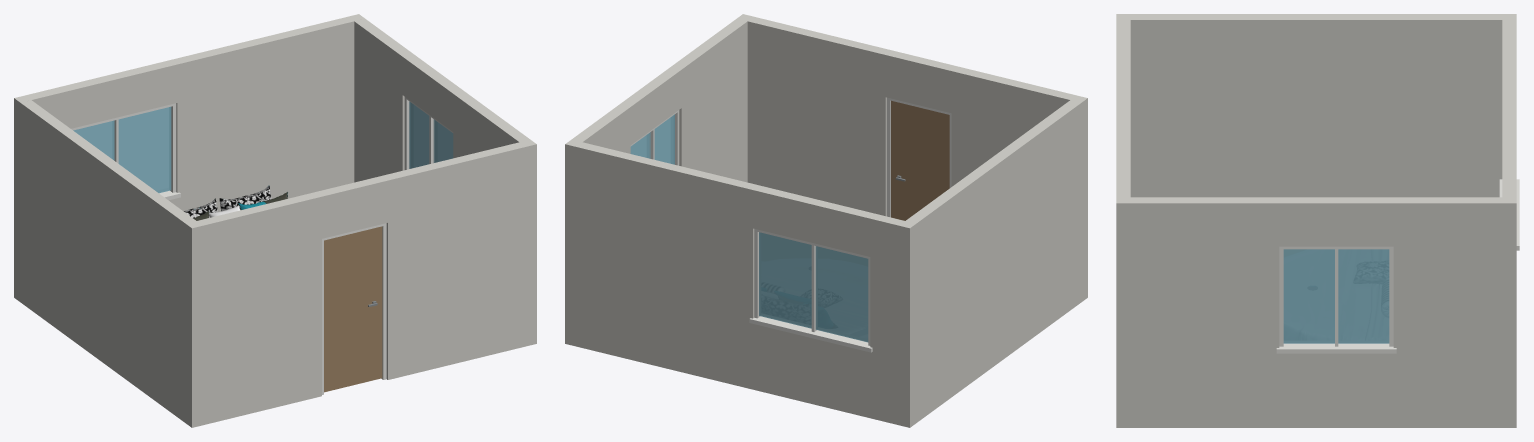
File: atiss.glb
3 views of the same model, side by side, from view 1: azimuth 30°, elevation 25°; view 2: azimuth 150°, elevation 25°; view 3: azimuth 270°, elevation 25° (orthographic). The views are drawn at different scales.
Parts seen in each view (by area): view 1: wall|scenesmith_020__R00|0, wall|scenesmith_020__R00|2, wall|scenesmith_020__R00|1, wall|scenesmith_020__R00|3, wall|scenesmith_020__R00|0 Door 0 | wood leaf, wall|scenesmith_020__R00|1 Window 0 | glazing, wall|scenesmith_020__R00|3 Window 0 | glazing, raw_model.002, wall|scenesmith_020__R00|0 Door 0 | jamb, wall|scenesmith_020__R00|1 Window 0 | jamb, wall|scenesmith_020__R00|3 Window 0 | jamb; view 2: wall|scenesmith_020__R00|1, wall|scenesmith_020__R00|2, wall|scenesmith_020__R00|0, wall|scenesmith_020__R00|3, wall|scenesmith_020__R00|1 Window 0 | glazing, wall|scenesmith_020__R00|0 Door 0 | wood leaf, wall|scenesmith_020__R00|1 Window 0 | jamb, wall|scenesmith_020__R00|3 Window 0 | glazing, wall|scenesmith_020__R00|0 Door 0 | jamb, wall|scenesmith_020__R00|3 Window 0 | jamb; view 3: wall|scenesmith_020__R00|3, wall|scenesmith_020__R00|2, wall|scenesmith_020__R00|3 Window 0 | glazing, wall|scenesmith_020__R00|1, wall|scenesmith_020__R00|0, wall|scenesmith_020__R00|3 Window 0 | jamb.
Part boxes in pixels (<box>): wall|scenesmith_020__R00|0: <box>192,142,525,427</box>; wall|scenesmith_020__R00|2: <box>20,100,202,427</box>; wall|scenesmith_020__R00|1: <box>14,14,364,301</box>; wall|scenesmith_020__R00|3: <box>354,18,536,346</box>; wall|scenesmith_020__R00|0 Door 0 | wood leaf: <box>324,226,382,392</box>; wall|scenesmith_020__R00|1 Window 0 | glazing: <box>73,106,171,193</box>; wall|scenesmith_020__R00|3 Window 0 | glazing: <box>409,101,453,168</box>; raw_model.002: <box>184,185,287,220</box>; wall|scenesmith_020__R00|0 Door 0 | jamb: <box>322,223,386,394</box>; wall|scenesmith_020__R00|1 Window 0 | jamb: <box>71,103,180,200</box>; wall|scenesmith_020__R00|3 Window 0 | jamb: <box>404,97,453,169</box>; wall|scenesmith_020__R00|1: <box>565,139,916,427</box>; wall|scenesmith_020__R00|2: <box>899,95,1087,427</box>; wall|scenesmith_020__R00|0: <box>747,16,1076,216</box>; wall|scenesmith_020__R00|3: <box>565,14,753,346</box>; wall|scenesmith_020__R00|1 Window 0 | glazing: <box>759,232,868,342</box>; wall|scenesmith_020__R00|0 Door 0 | wood leaf: <box>891,100,949,220</box>; wall|scenesmith_020__R00|1 Window 0 | jamb: <box>749,229,872,352</box>; wall|scenesmith_020__R00|3 Window 0 | glazing: <box>630,114,674,164</box>; wall|scenesmith_020__R00|0 Door 0 | jamb: <box>887,97,951,217</box>; wall|scenesmith_020__R00|3 Window 0 | jamb: <box>630,110,679,165</box>; wall|scenesmith_020__R00|3: <box>1116,197,1502,427</box>; wall|scenesmith_020__R00|2: <box>1116,14,1502,197</box>; wall|scenesmith_020__R00|3 Window 0 | glazing: <box>1283,249,1389,343</box>; wall|scenesmith_020__R00|1: <box>1502,14,1516,427</box>; wall|scenesmith_020__R00|0: <box>1116,20,1130,427</box>; wall|scenesmith_020__R00|3 Window 0 | jamb: <box>1276,246,1396,353</box>.
Size of the model in its own units: 4.73 by 2.61 by 4.23.
8 materials, 2 textured.
